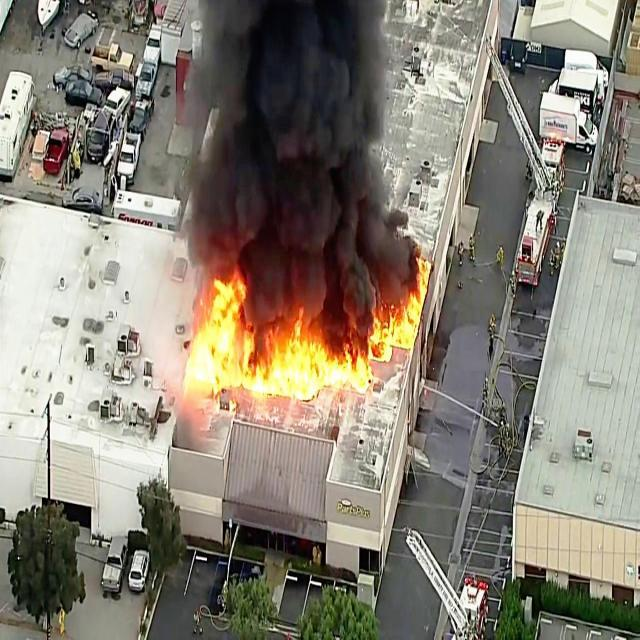Fire: (234, 329, 328, 415), (188, 275, 248, 408), (371, 258, 429, 354), (319, 334, 377, 396)
Smoke: (220, 0, 384, 251)
